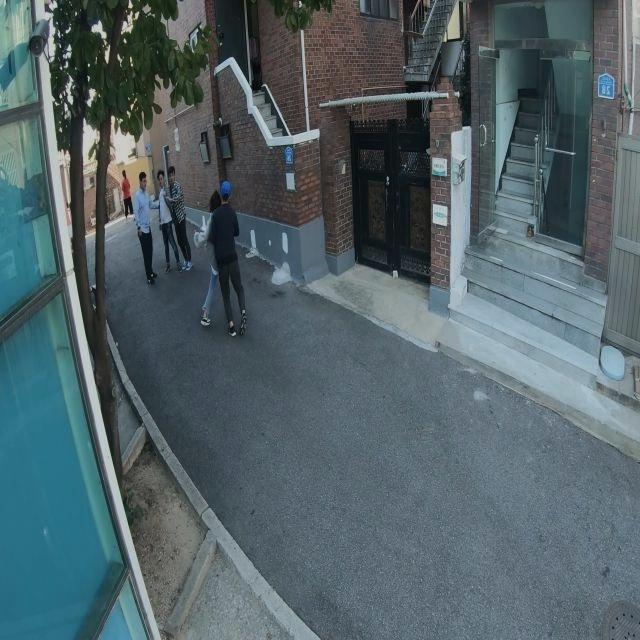fight: (189, 182, 256, 339)
non-fight: (129, 164, 162, 284)
